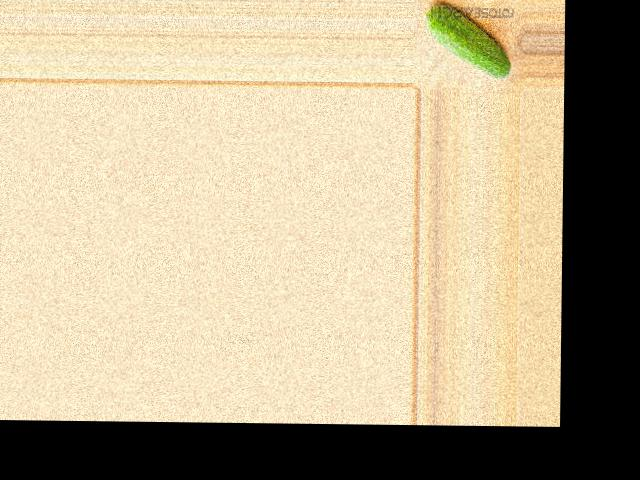cucumber: (423, 4, 511, 78)
